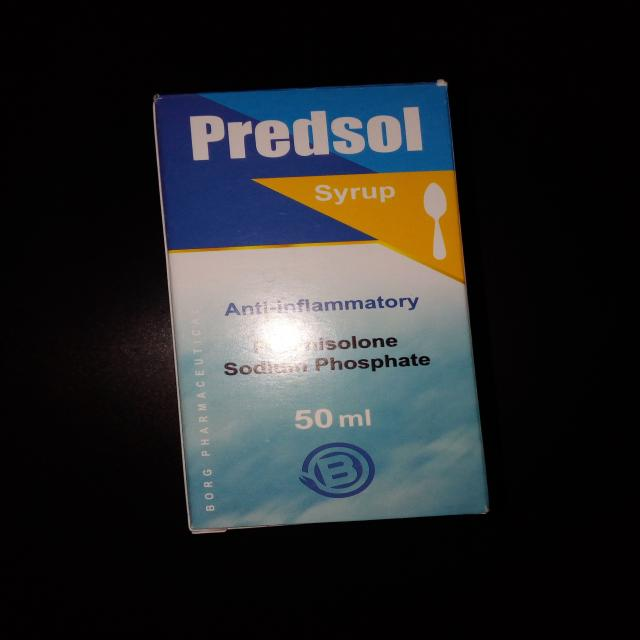Medicine: (149, 80, 499, 534)
